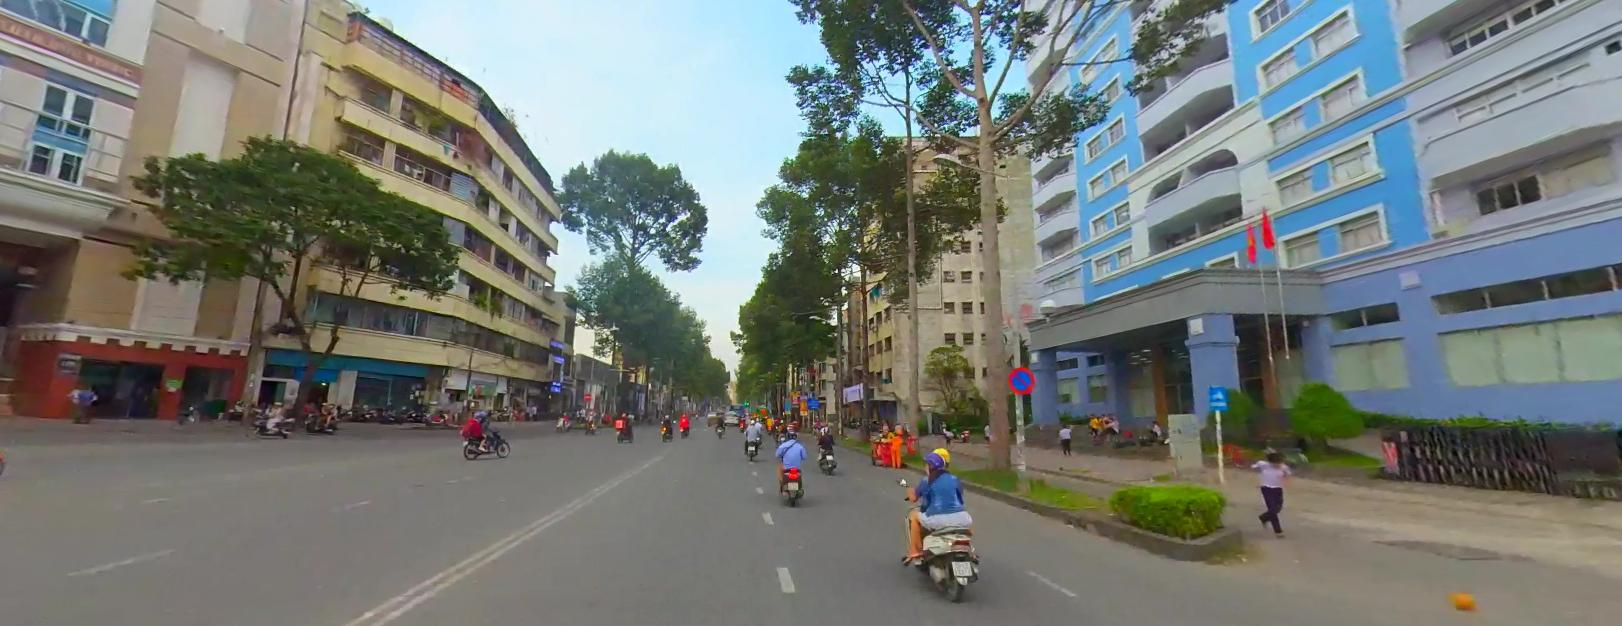Cam dung va do: (1007, 366, 1034, 392)
